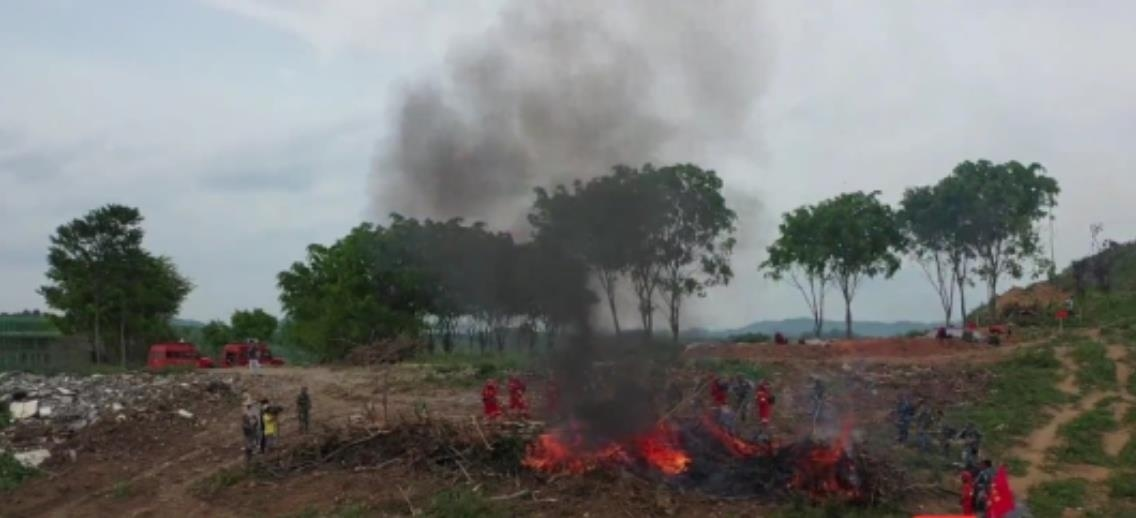fire: (525, 413, 696, 475)
